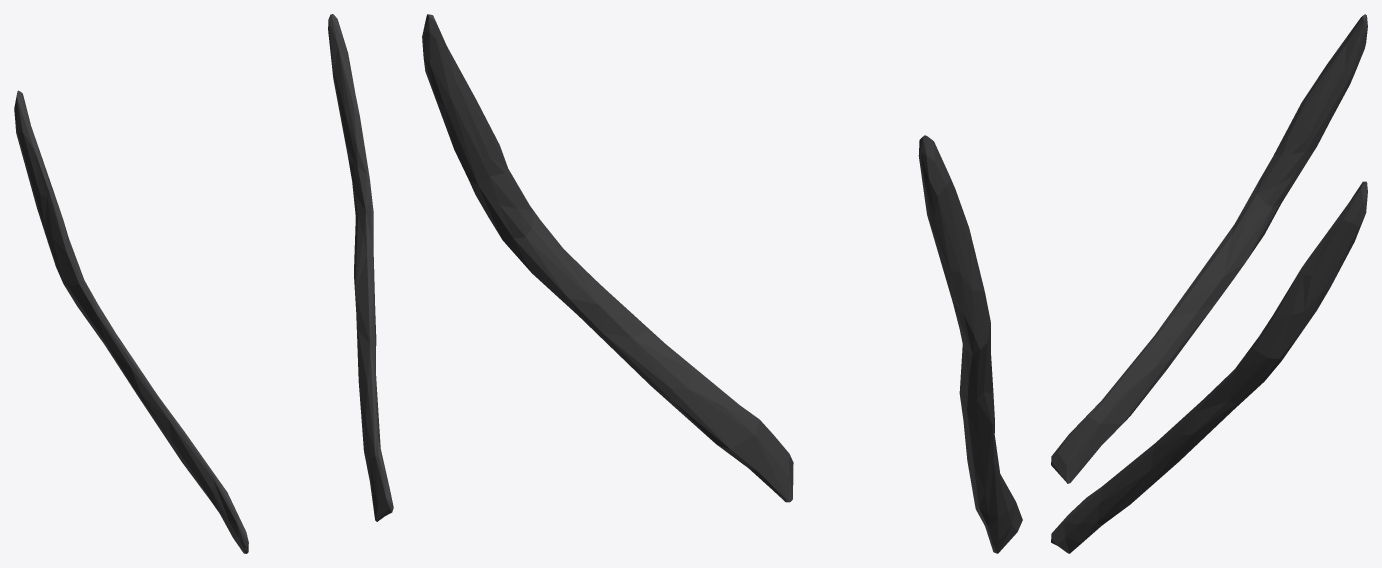
Rendered from m_zygomaticus.glb.
3 renders of one model, left to right at view 1: azimuth 30°, elevation 25°; view 2: azimuth 150°, elevation 25°; view 3: azimuth 270°, elevation 25°, orthographic. The views are drawn at different scales.
Visible parts, largest first — view 1: m_zygomaticus; view 2: m_zygomaticus; view 3: m_zygomaticus.
Part boxes in pixels (x1,y1,x2,y2): m_zygomaticus: (14, 14, 393, 553); m_zygomaticus: (422, 14, 1022, 553); m_zygomaticus: (1051, 14, 1367, 553).
Bounding box in the file's own units: 0.00342 × 0.00384 × 0.00262.
1 material, 1 textured.
